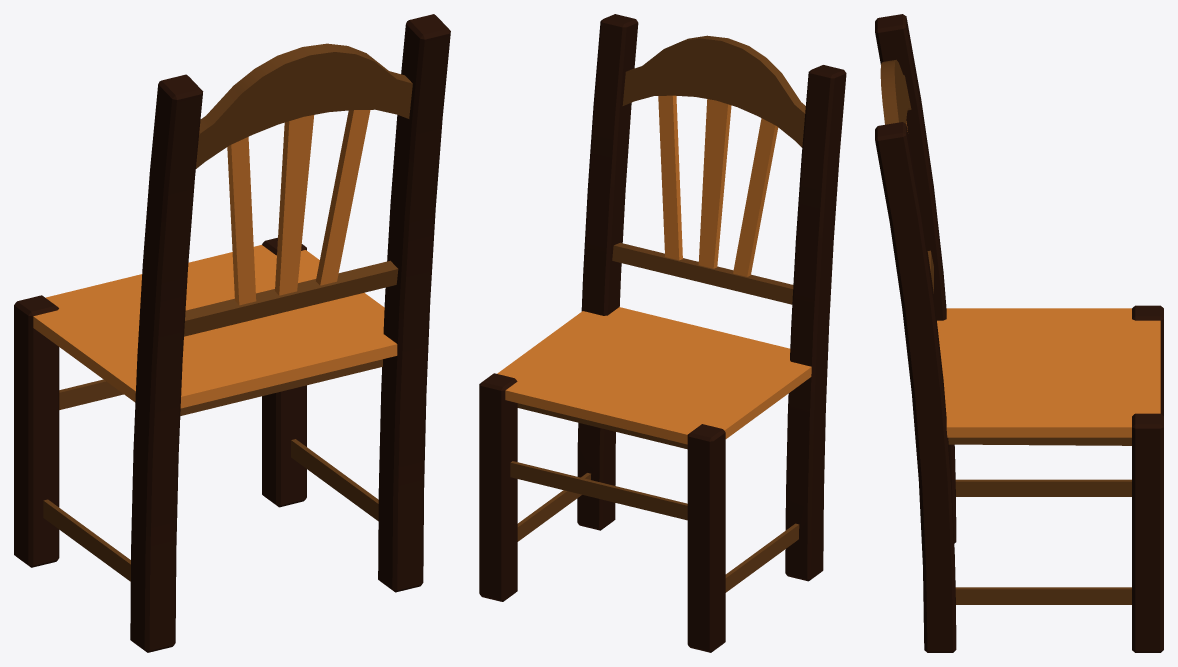
Rendered from SM_Chaise.fbx.
3 views of the same model, side by side, from view 1: azimuth 30°, elevation 25°; view 2: azimuth 150°, elevation 25°; view 3: azimuth 270°, elevation 25° (orthographic). The views are drawn at different scales.
Parts seen in each view (by area): view 1: SM_Chaise; view 2: SM_Chaise; view 3: SM_Chaise.
Part boxes in pixels (x1=…): SM_Chaise: x1=14, y1=14, x2=450, y2=652; SM_Chaise: x1=479, y1=14, x2=846, y2=652; SM_Chaise: x1=875, y1=14, x2=1163, y2=652.
Size of the model in its own units: 0.45 by 0.9044 by 0.4524.
